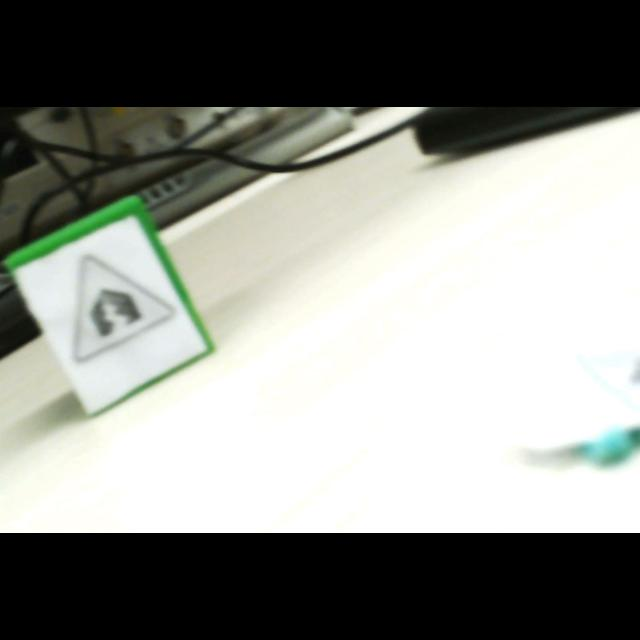Earthquake: (74, 256, 174, 363)
